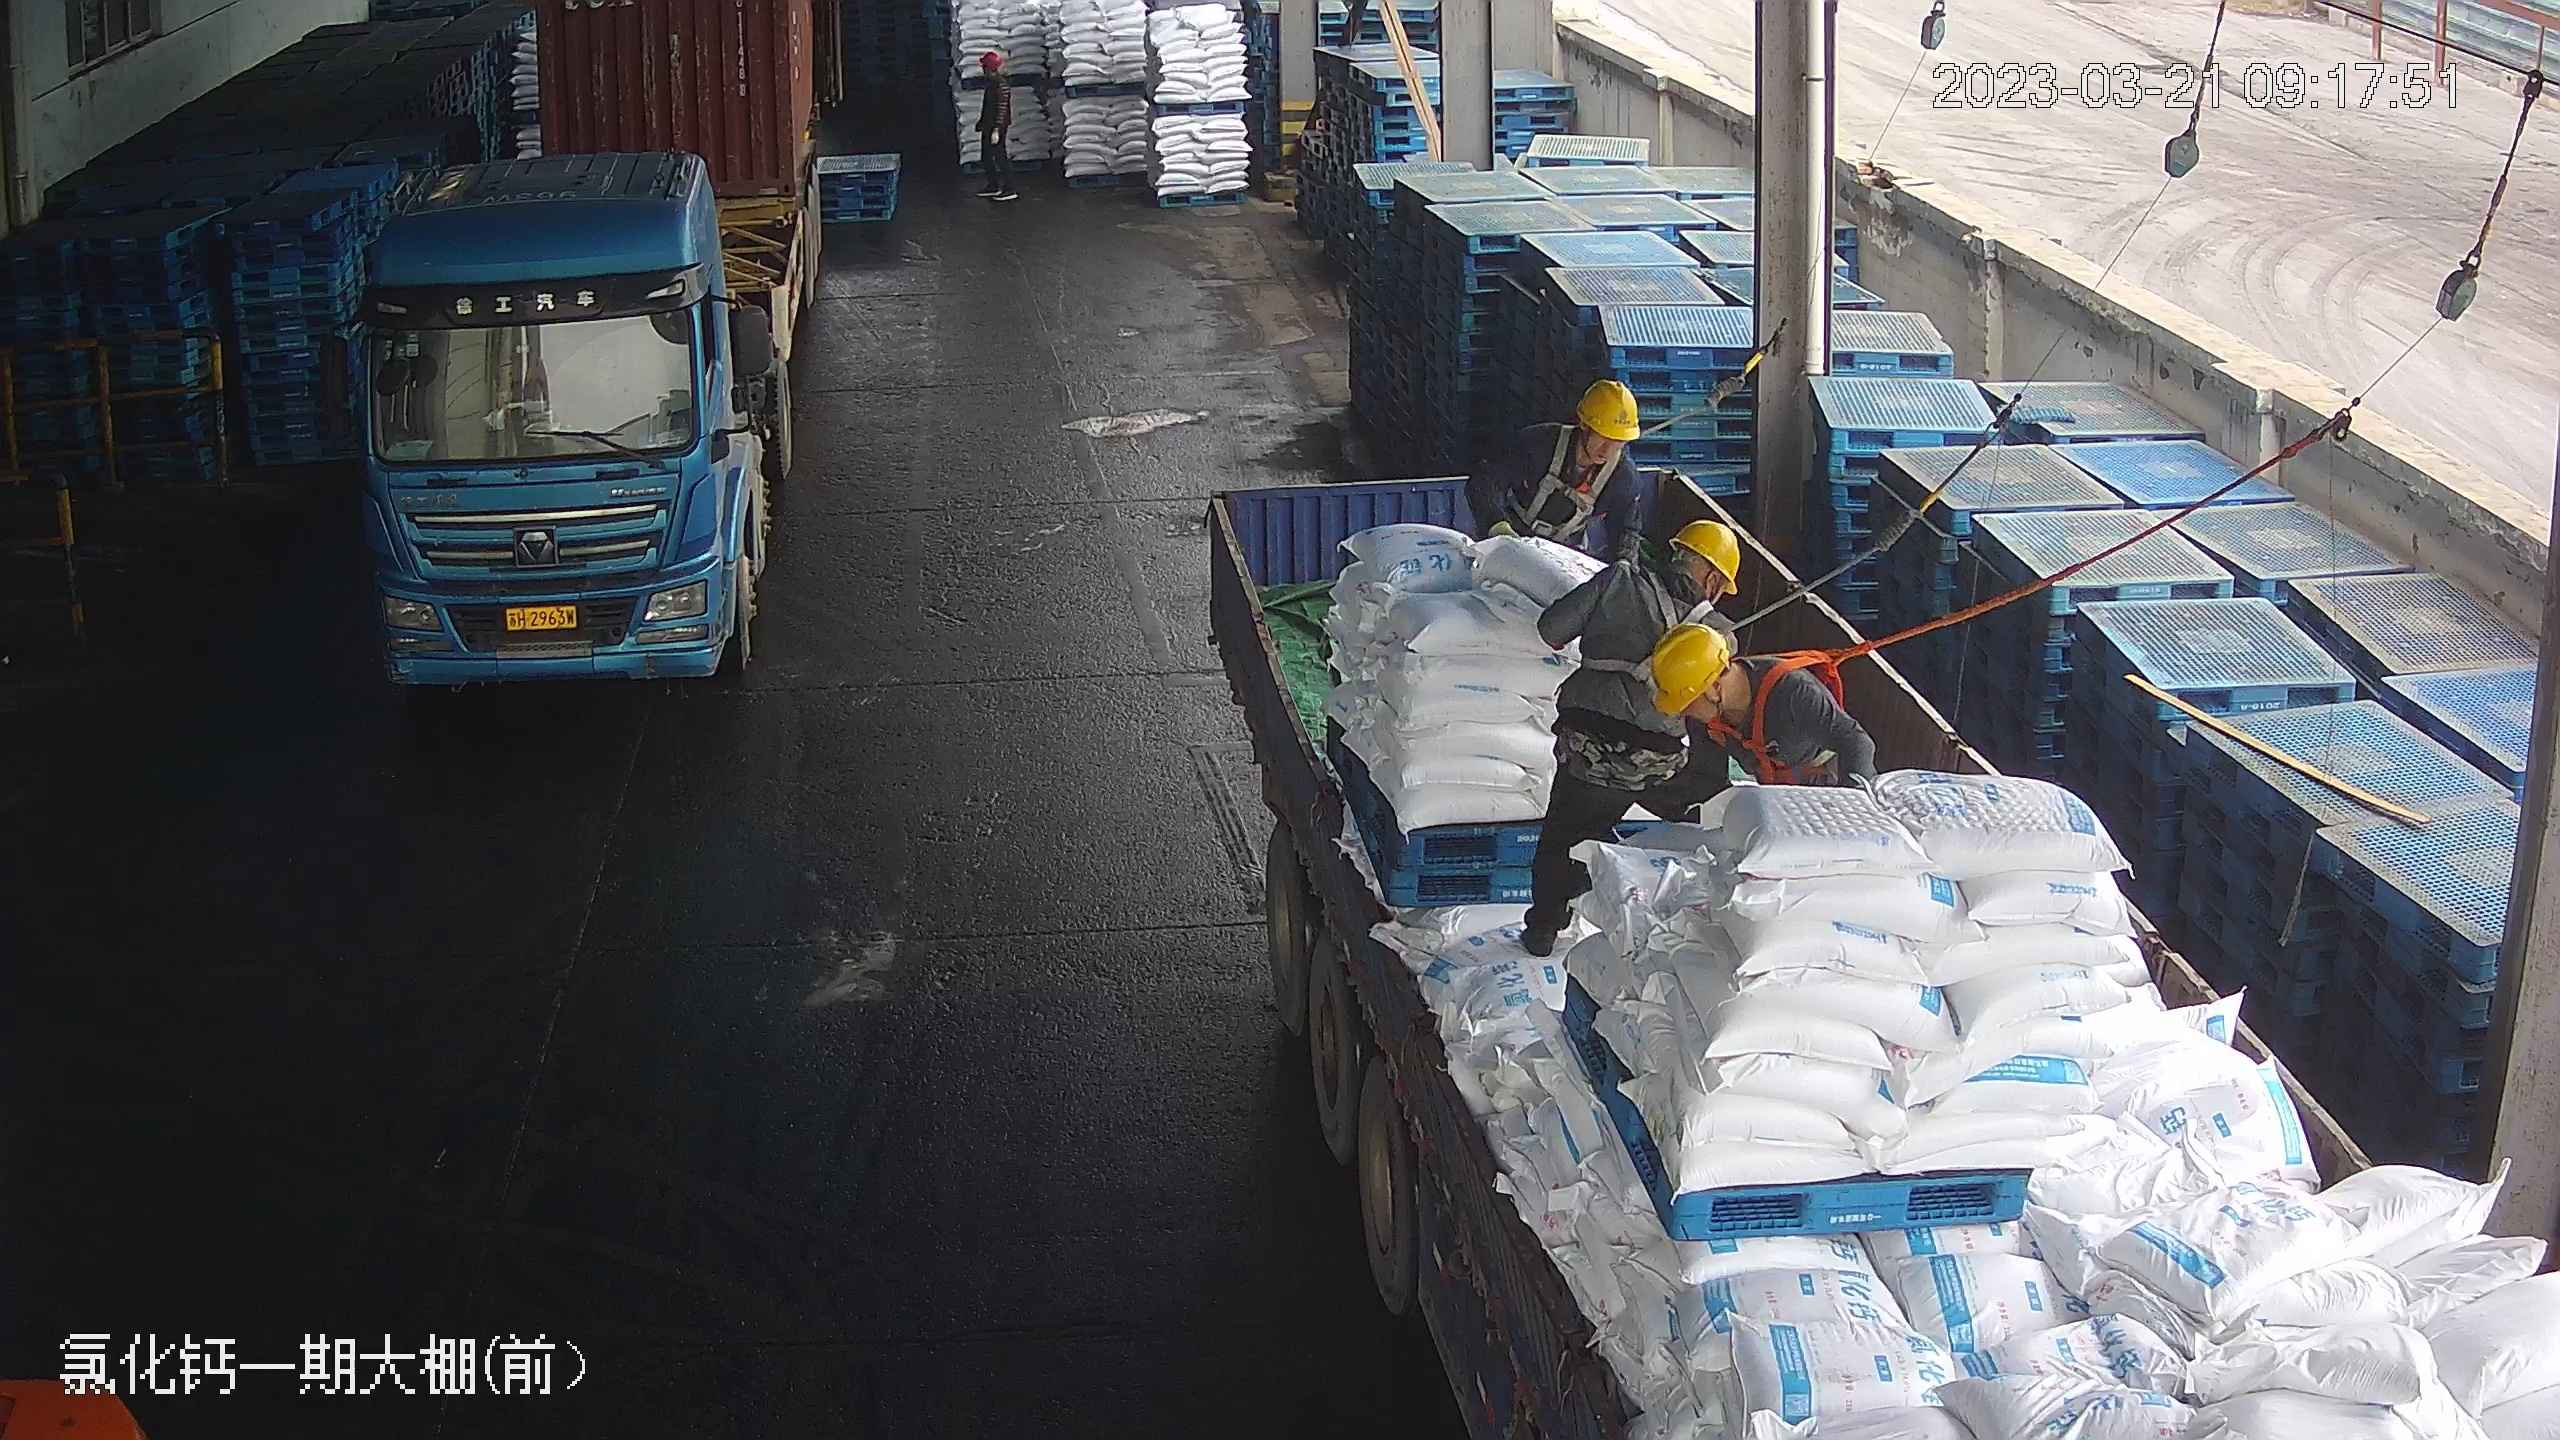belt: (1720, 644, 1862, 777), (1594, 547, 1713, 674), (1540, 437, 1625, 522)
head: (1646, 626, 1827, 765), (1588, 513, 1737, 642), (1516, 376, 1645, 504), (970, 46, 1010, 92)
helmet: (1648, 615, 1732, 716), (1671, 513, 1738, 592), (1572, 376, 1640, 441), (980, 46, 1003, 65)
people: (1503, 506, 1738, 961), (967, 42, 1014, 192)
truck: (1167, 150, 2540, 1440), (325, 1, 825, 686)
